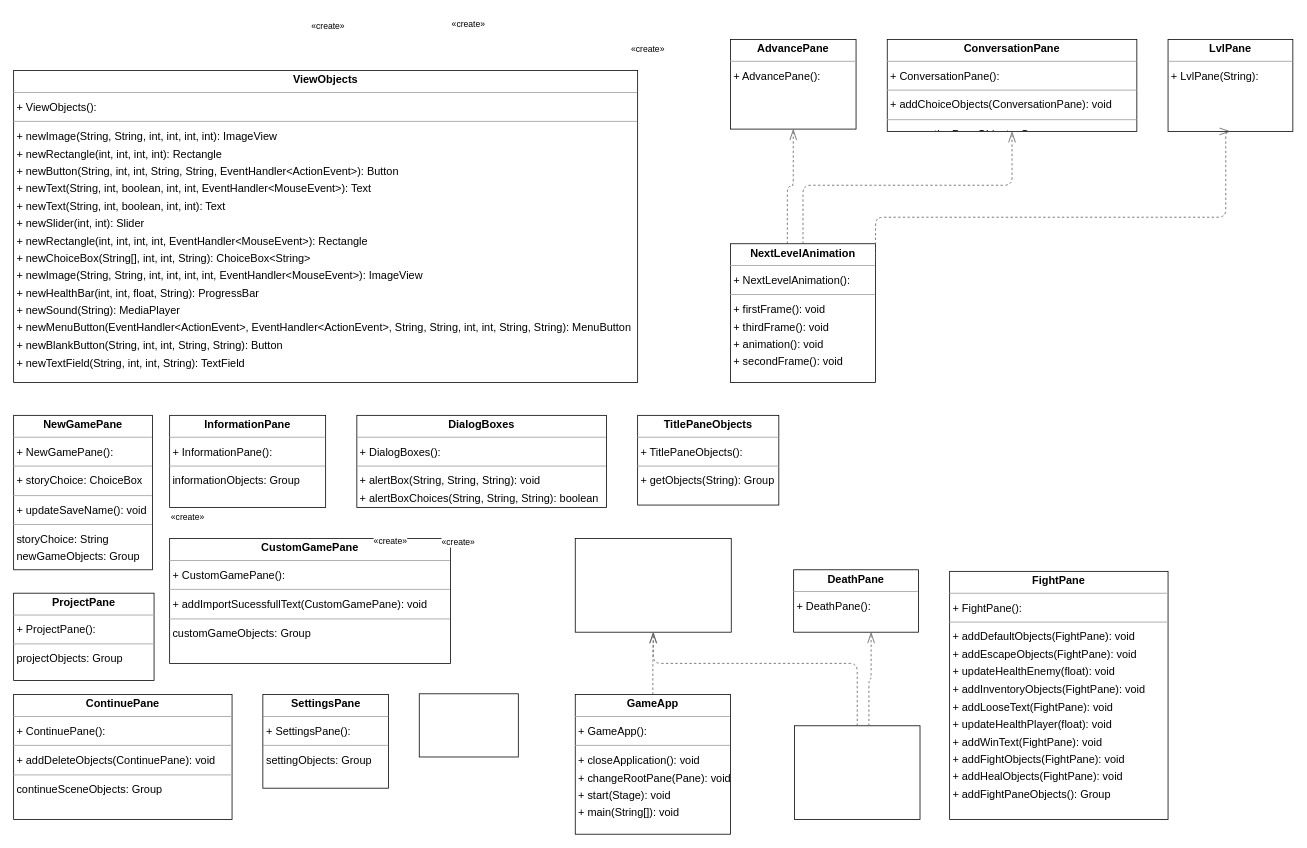
Some shapes in this 1307 by 848 pixel diagram are drawn without their labels. The centre of each missing label's shape, as x and y in pixels:
"DeathAnimation + DeathAnimation(): + animation(): void" goes at point 857,772.
"OpeningPane + OpeningPane(): startMenuObjects: Group" goes at point 652,585.
"ViewValues + ViewValues():" goes at point 468,725.
